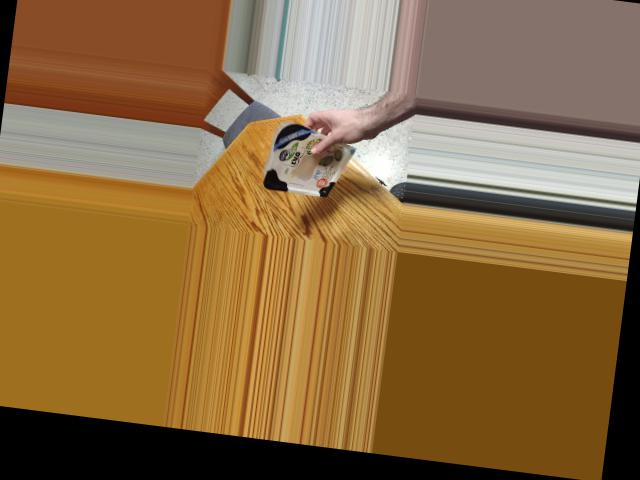cheese: (261, 131, 350, 192)
